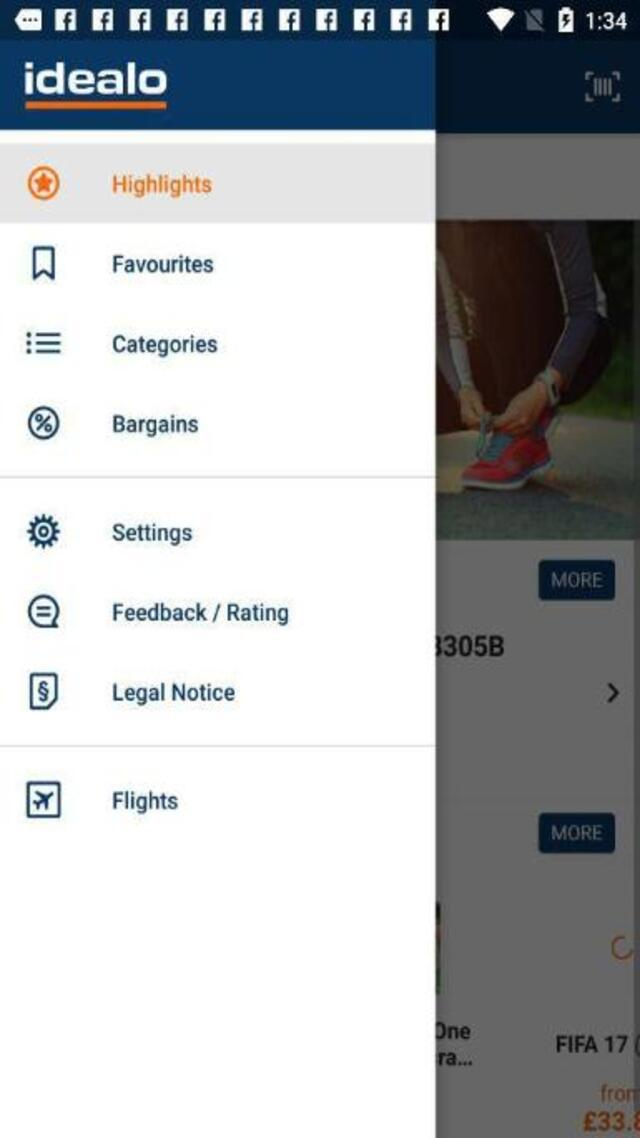Icon: (26, 779, 60, 818), (26, 514, 59, 550), (28, 670, 58, 709), (27, 165, 59, 201), (27, 593, 59, 627), (27, 406, 59, 440), (24, 330, 62, 356), (32, 245, 54, 281)
Image: (22, 60, 168, 110)
Text: (113, 601, 289, 626), (113, 681, 236, 706), (111, 332, 218, 358), (110, 172, 212, 198), (112, 252, 215, 274), (111, 412, 198, 438), (112, 521, 192, 546), (114, 790, 180, 814)
